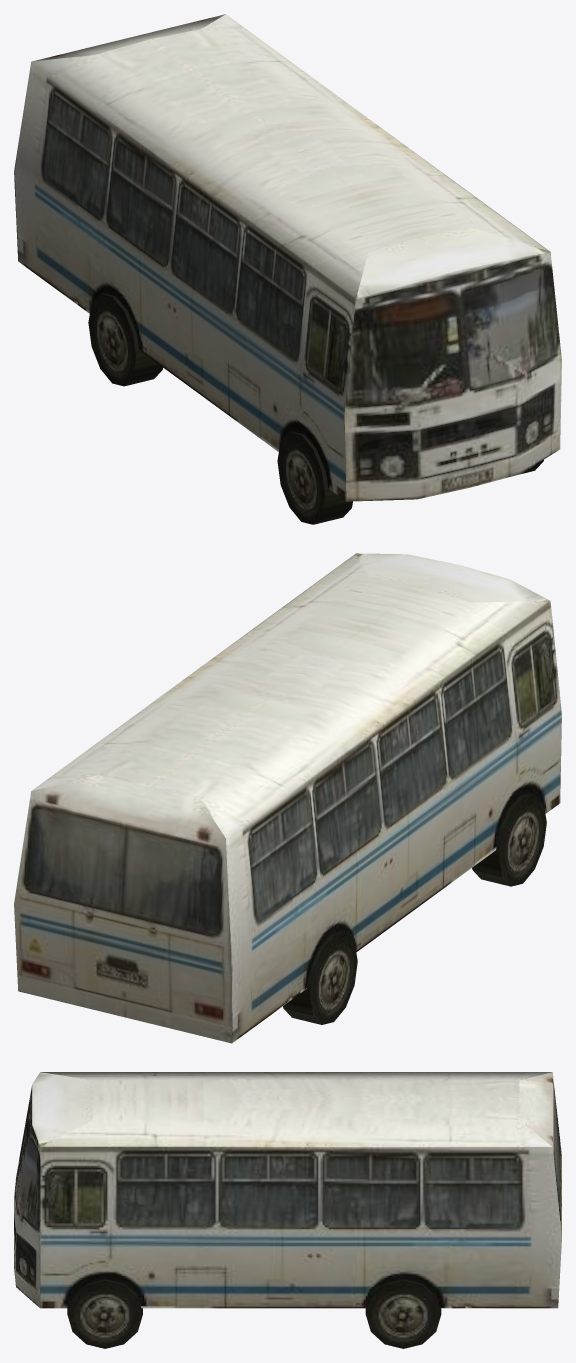
Rendered from paz.fbx.
3 views of the same model, one above another, from view 1: azimuth 30°, elevation 25°; view 2: azimuth 150°, elevation 25°; view 3: azimuth 270°, elevation 25° (orthographic). The views are drawn at different scales.
Parts seen in each view (by area): view 1: Object_4; view 2: Object_4; view 3: Object_4.
Boxes of the visible parts, left/top/right/bottom form: Object_4: left=14, top=14, right=561, bottom=524; Object_4: left=14, top=553, right=561, bottom=1043; Object_4: left=14, top=1072, right=561, bottom=1348.
Size of the model in its own units: 229 by 260 by 621.
